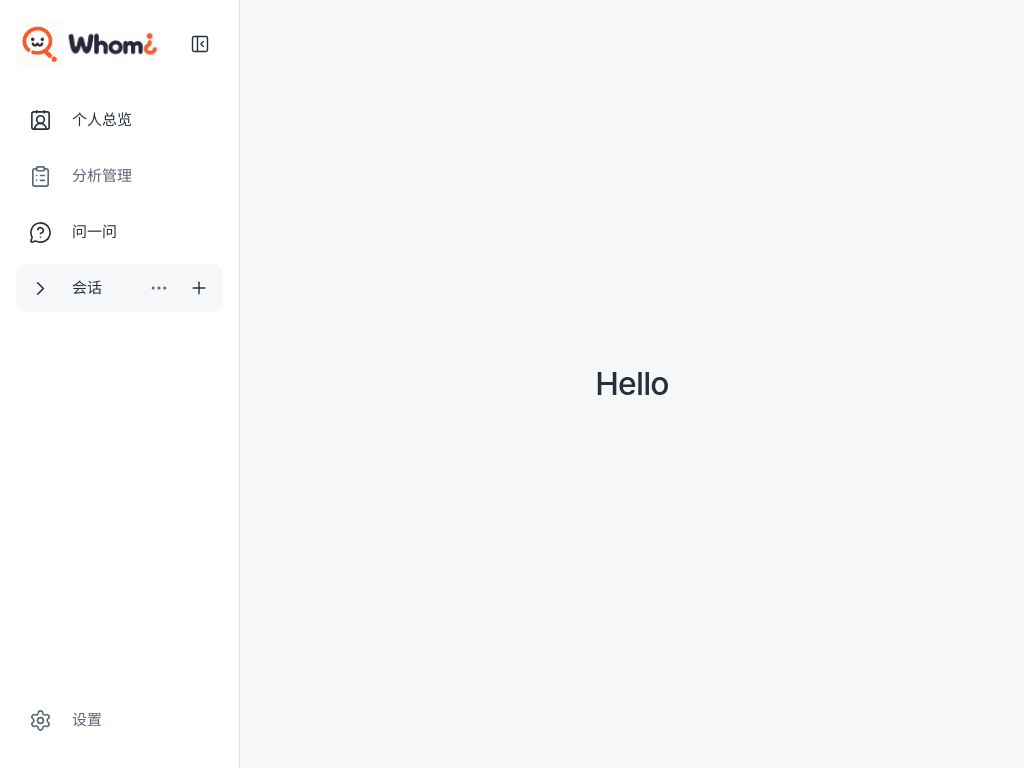
Test case: 正式会话从桌面后台读取可用模型，保留开发适配器独立性
Click the button with aria-label "展开会话列表" at (78, 288), box [16, 264, 139, 312]
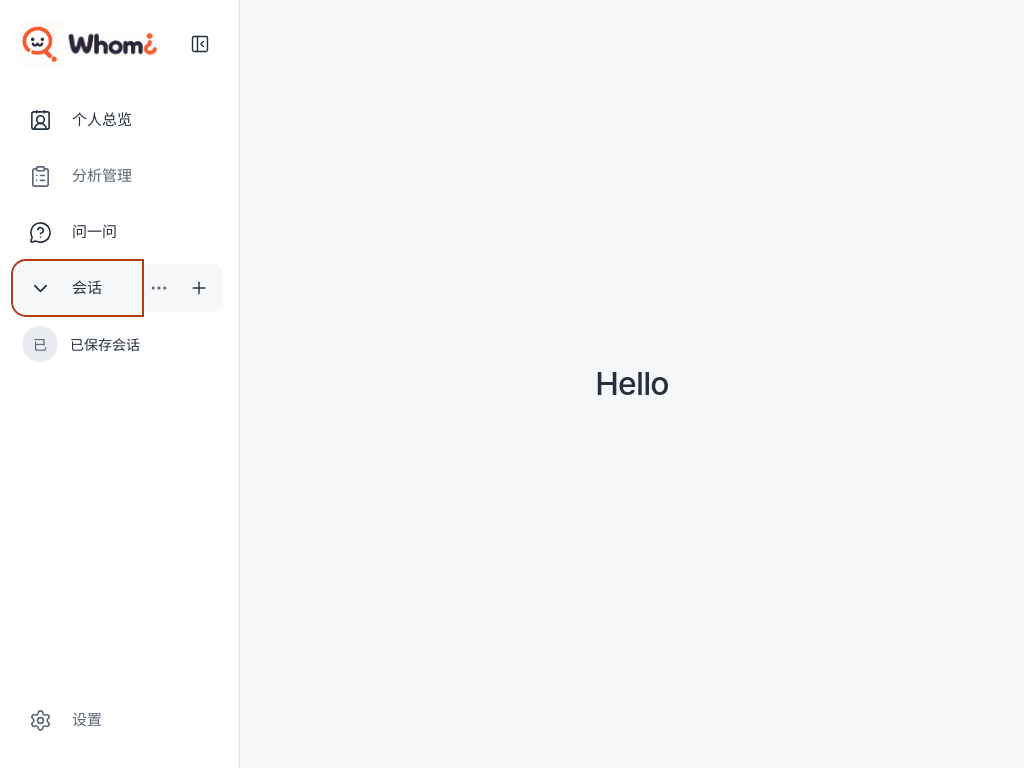
Click the button "已 已保存会话" at (120, 344), box [16, 320, 223, 368]
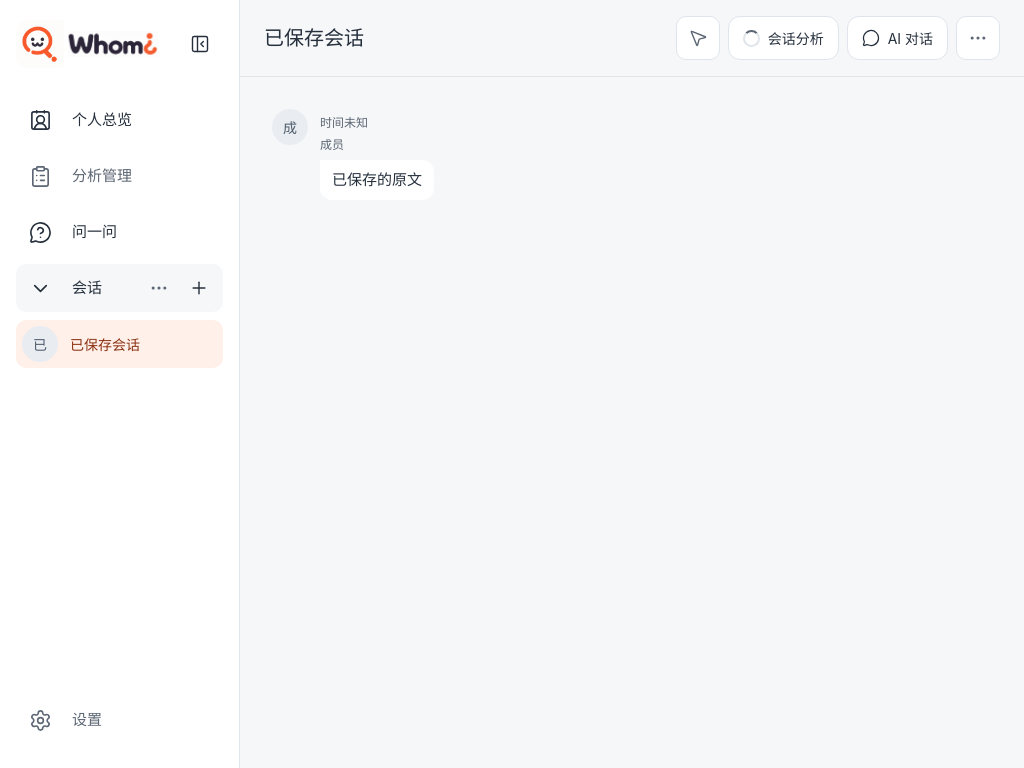
Click the button "AI 对话" at (897, 38), box [847, 16, 948, 60]
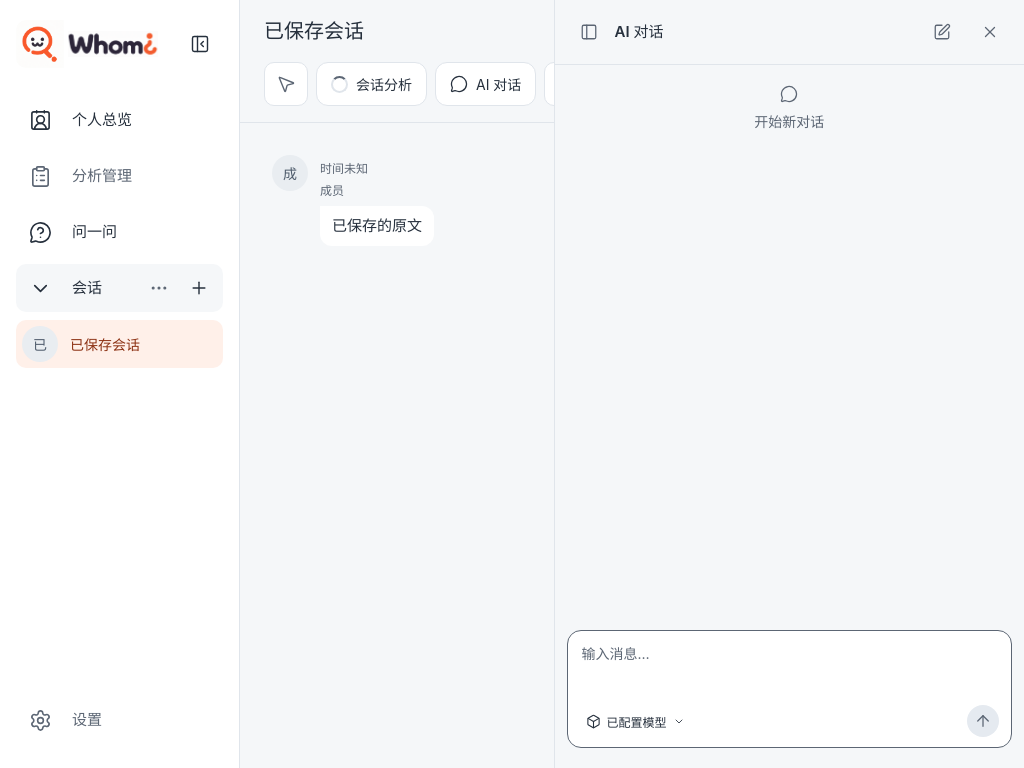
Expected: the dropdown named "对话模型" reads "已配置模型"
Click the dropdown named "对话模型" at (635, 721), box [580, 706, 691, 736]
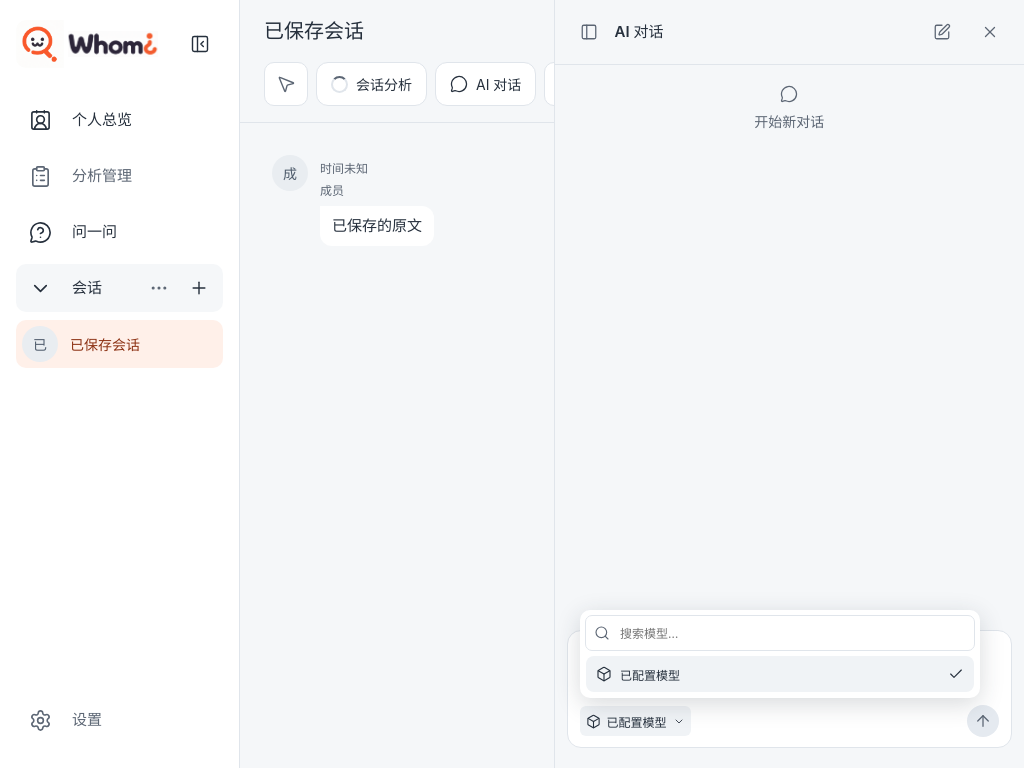
Click the option "已配置模型" at (650, 675), box [586, 656, 974, 692]
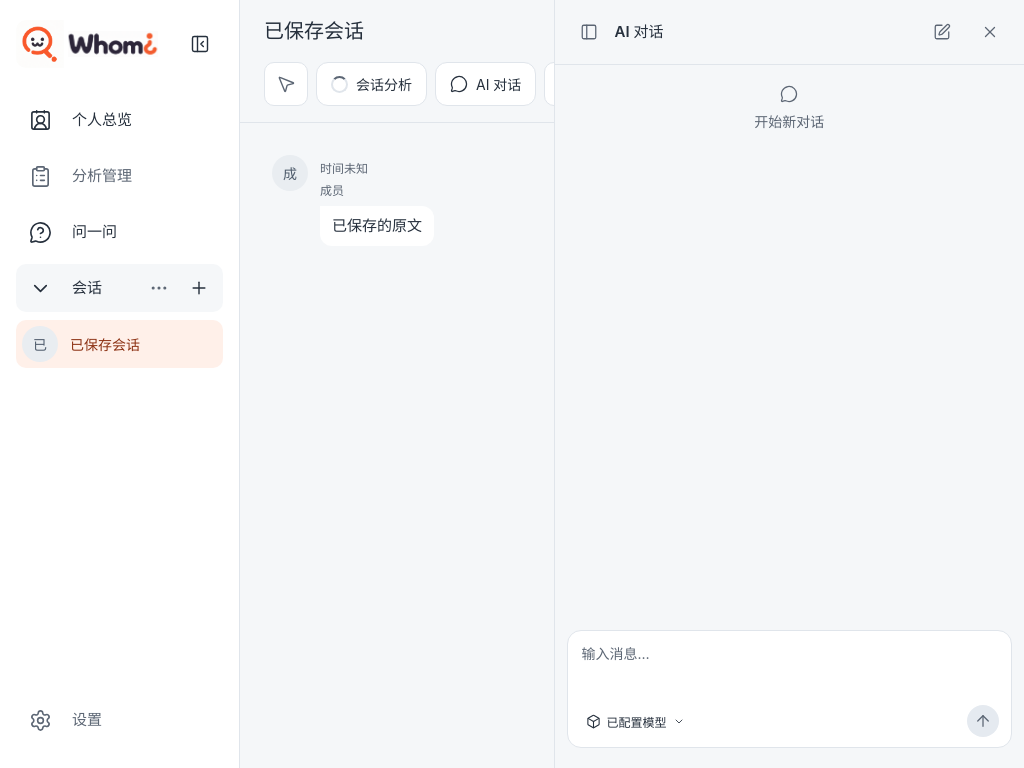
Type "我的问题" into the text box at (789, 669), box [580, 641, 999, 697]
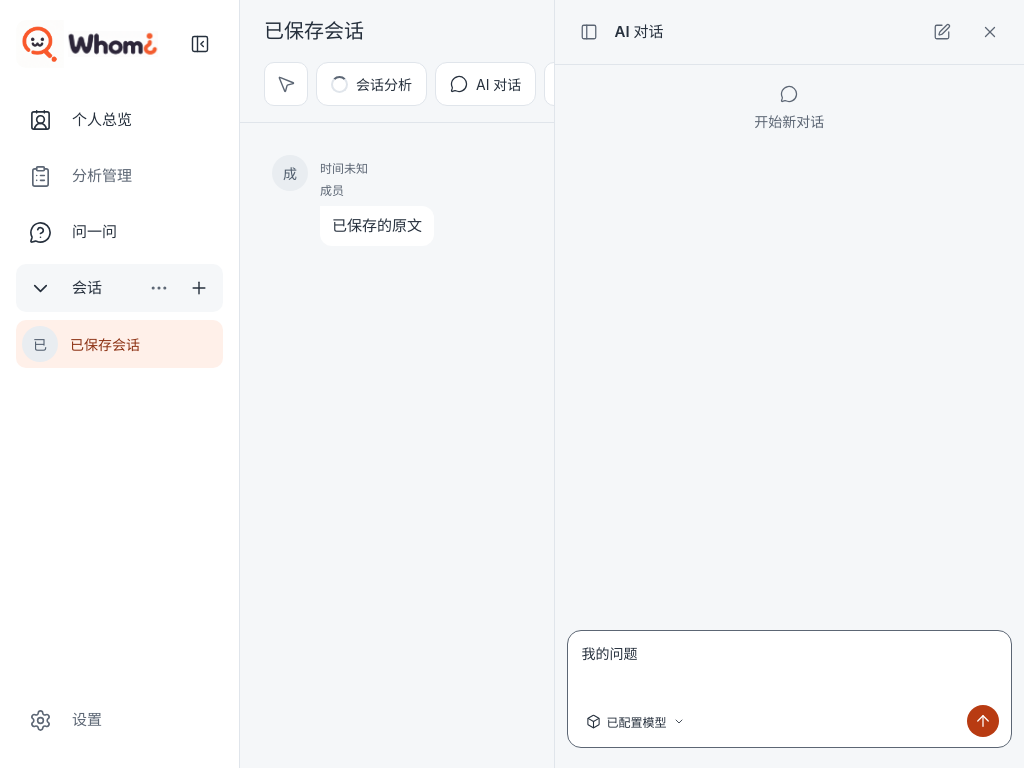
Expected: the button named "发送给 AI" is enabled, [967, 705, 999, 737]
